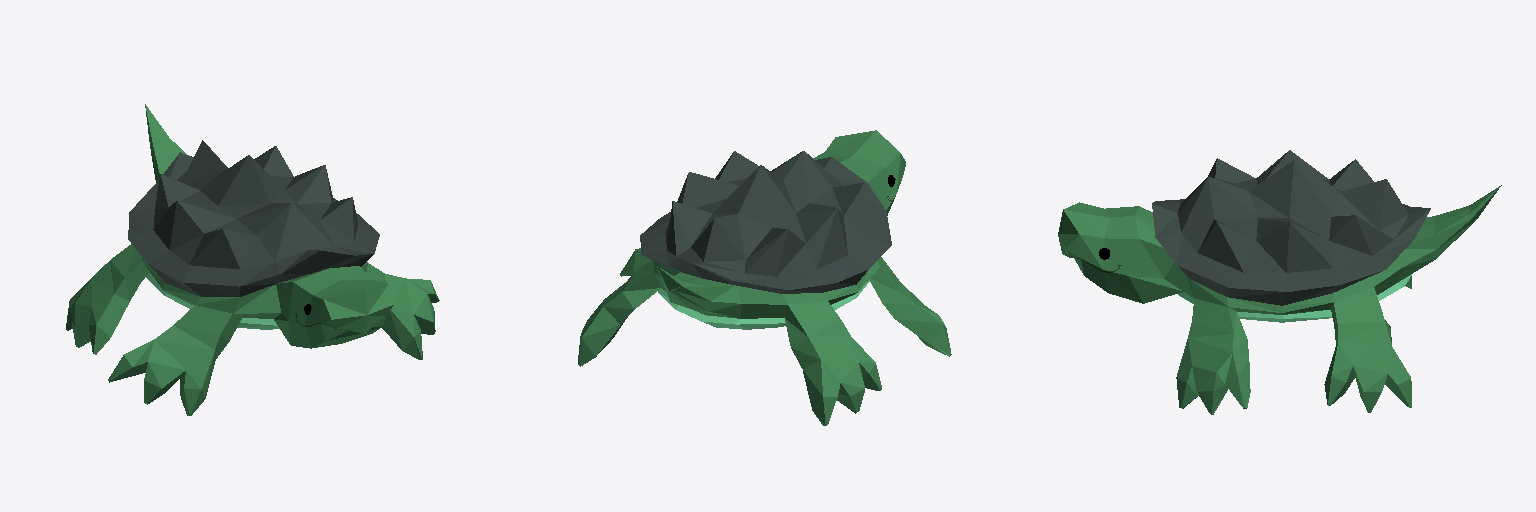
3 views of the same model, side by side, from view 1: azimuth 30°, elevation 25°; view 2: azimuth 150°, elevation 25°; view 3: azimuth 270°, elevation 25° (orthographic).
Visible parts, largest first — view 1: Cube.001; view 2: Cube.001; view 3: Cube.001.
Part boxes in pixels (bbox=[...]): Cube.001: bbox=[66, 104, 439, 415]; Cube.001: bbox=[578, 130, 951, 425]; Cube.001: bbox=[1058, 150, 1501, 414].
Bounding box in the file's own units: 1.83 × 1.02 × 2.13.
Materials: 1 (1 with a texture image).